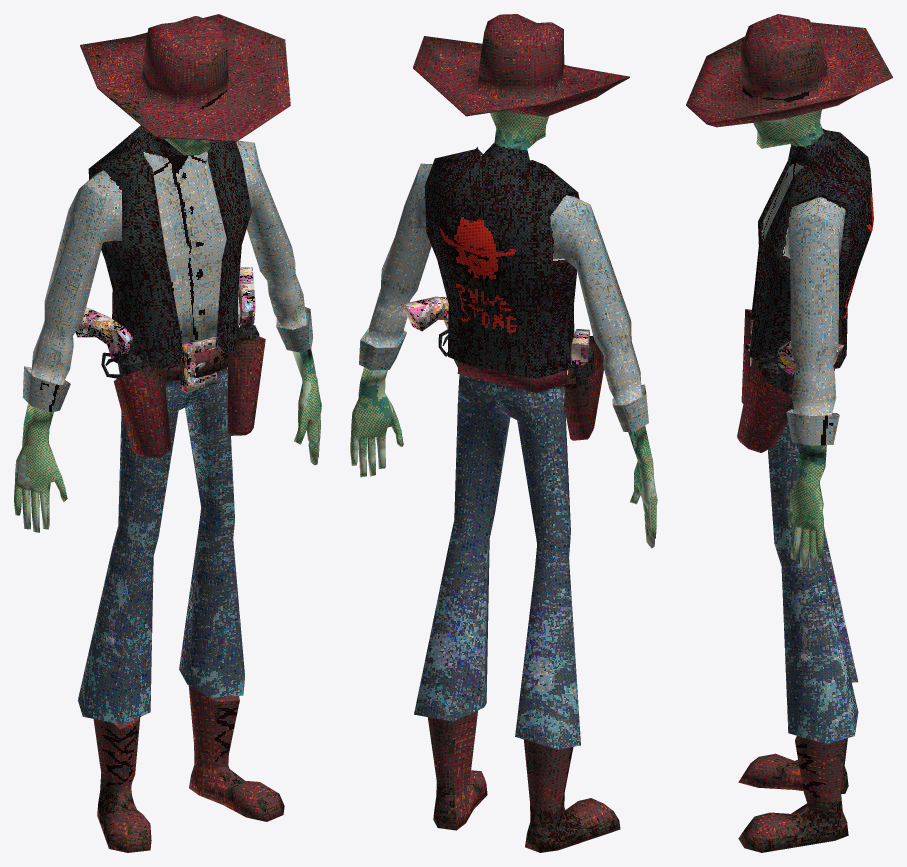
File: cowboy_enemy3d.glb
The picture shows the model from 3 angles, left to right: view 1: azimuth 30°, elevation 25°; view 2: azimuth 150°, elevation 25°; view 3: azimuth 270°, elevation 25°; orthographic projection.
Parts seen in each view (by area): view 1: taget.001; view 2: taget.001; view 3: taget.001.
Part boxes in pixels (<box>): taget.001: <box>14,14,321,852</box>; taget.001: <box>350,14,657,852</box>; taget.001: <box>686,14,892,852</box>.
Bounding box in the file's own units: 2.07 × 5.12 × 1.22.
Materials: 1 (1 with a texture image).
